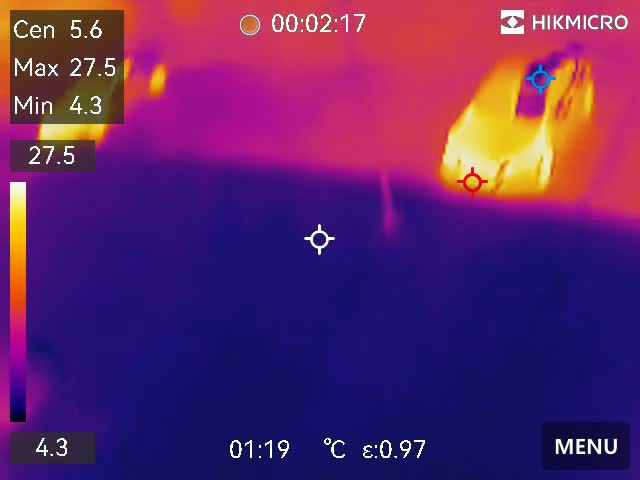smallCar: (431, 38, 591, 230)
